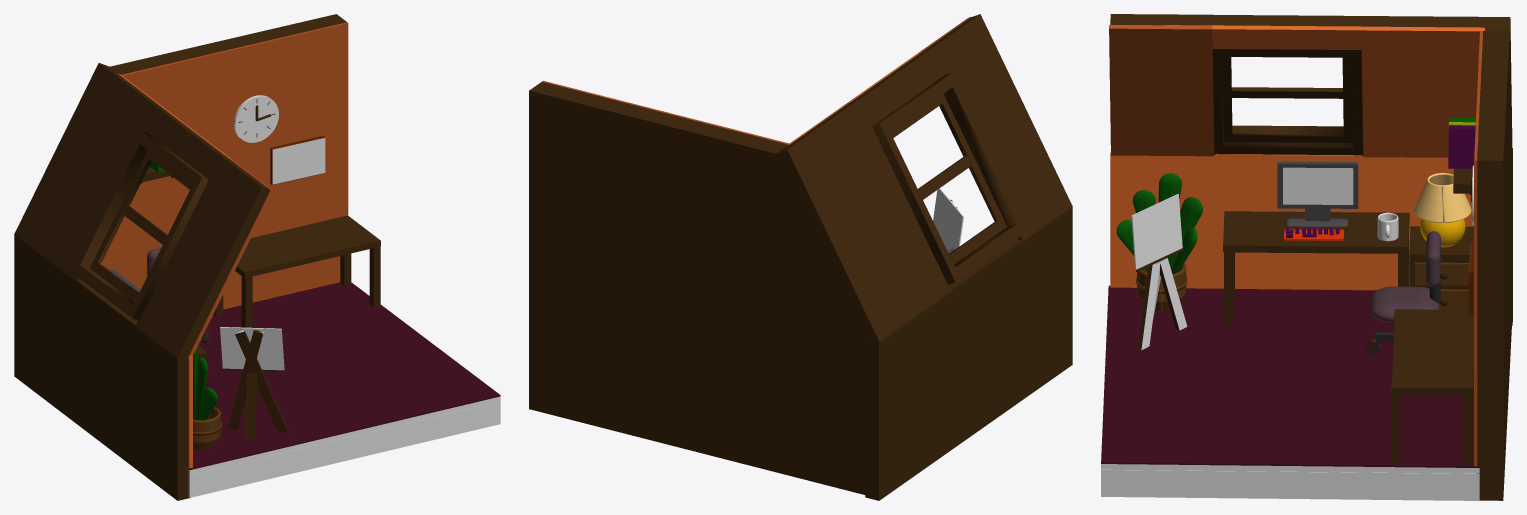
3 renders of one model, left to right at view 1: azimuth 30°, elevation 25°; view 2: azimuth 150°, elevation 25°; view 3: azimuth 270°, elevation 25°, orthographic. The views are drawn at different scales.
Parts seen in each view (by area): view 1: Wall, Floor Surface, Cube 77, Cube 79, Cube 78, Concrete, Mar_Window.001, Cube 8, Cube 80, Shape, cuadro, Mar_Window (+13 smaller); view 2: Shape, Cube 77, Cube 79, Cube 78, Mar_Window.001, Cube 80, Mar_Window, cuadro, Cube 46.001; view 3: Floor Surface, Cube.001, Shape, Cube 4.001, Cube 3.001, Concrete, Cube 8, Cube 8.001, Mar_Window.001, Cube 5, Cube 80, Mar_Window (+29 smaller).
Part boxes in pixels (<box>): Wall: <box>102,22,348,309</box>; Floor Surface: <box>188,282,500,470</box>; Cube 77: <box>14,233,189,500</box>; Cube 79: <box>14,63,167,280</box>; Cube 78: <box>135,155,270,358</box>; Concrete: <box>188,401,500,497</box>; Mar_Window.001: <box>71,130,208,320</box>; Cube 8: <box>235,215,380,277</box>; Cube 80: <box>124,96,226,184</box>; Shape: <box>110,14,346,74</box>; cuadro: <box>220,327,284,370</box>; Mar_Window: <box>90,150,192,302</box>; Shape: <box>529,81,865,494</box>; Cube 77: <box>865,205,1072,500</box>; Cube 79: <box>775,99,951,342</box>; Cube 78: <box>922,14,1072,241</box>; Mar_Window.001: <box>872,72,1028,284</box>; Cube 80: <box>839,49,946,153</box>; Mar_Window: <box>890,94,1007,264</box>; cuadro: <box>933,188,963,251</box>; Cube 46.001: <box>918,155,971,199</box>; Floor Surface: <box>1101,285,1479,467</box>; Cube.001: <box>1110,152,1473,290</box>; Shape: <box>1477,30,1511,500</box>; Cube 4.001: <box>1361,26,1484,157</box>; Cube 3.001: <box>1109,25,1214,156</box>; Concrete: <box>1101,469,1479,500</box>; Cube 8: <box>1392,309,1473,394</box>; Cube 8.001: <box>1223,211,1409,253</box>; Mar_Window.001: <box>1214,56,1361,155</box>; Cube 5: <box>1165,25,1361,49</box>; Cube 80: <box>1212,15,1388,57</box>; Mar_Window: <box>1222,57,1352,142</box>.
Size of the model in its own units: 2.86 by 2.47 by 2.63.
